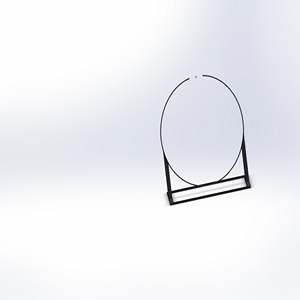circle: (158, 74, 253, 206)
